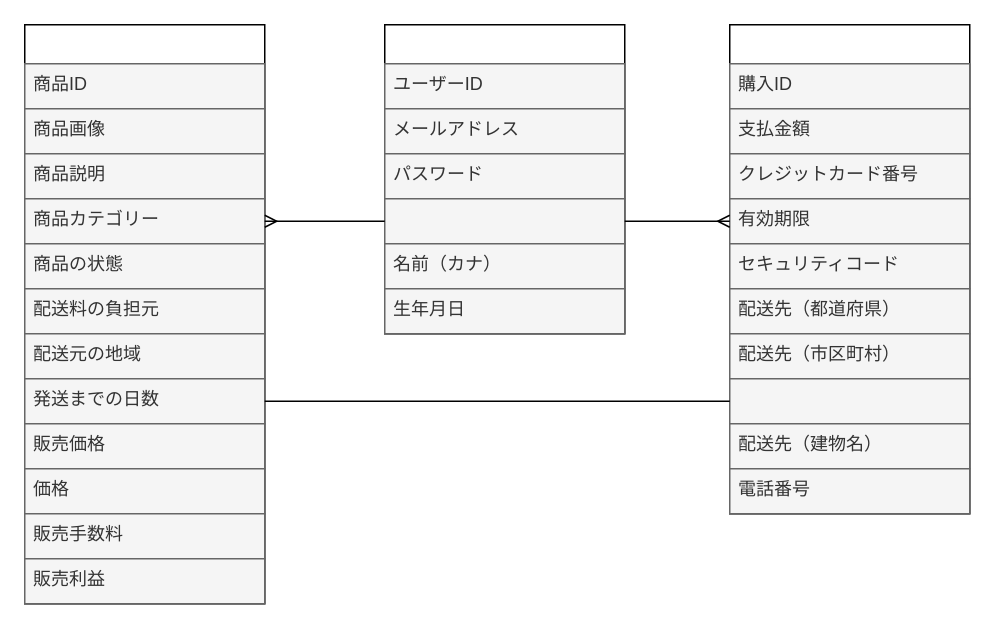
The diagram is 995 pixels wide and 629 high, and some of its shapes have lost their labels. The shapes that lost their labels are listed below. From the top down, each one's box as (x1, y1, x2, y2) in pixels, then its label:
(383, 23, 625, 334): ユーザー情報
(383, 197, 625, 244): 名前（漢字）
(728, 23, 970, 514): 購入情報
(23, 23, 265, 604): 商品情報
(728, 377, 970, 424): 配送先（番地）
